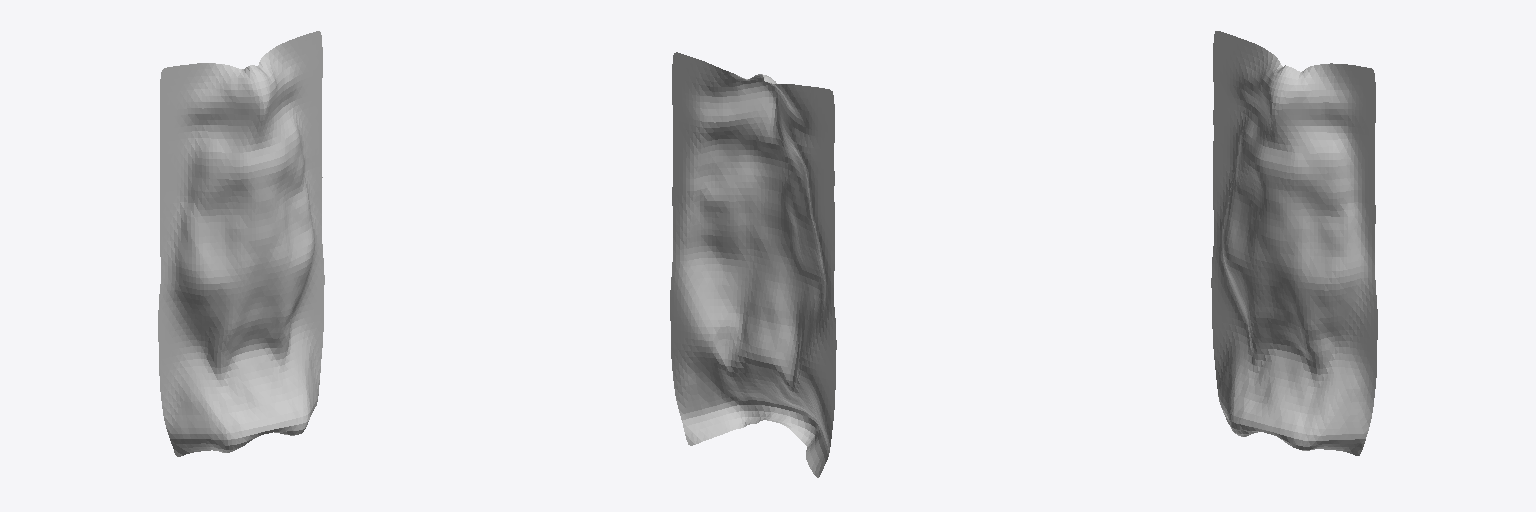
File: drap_corps.obj
The picture shows the model from 3 angles: view 1: azimuth 30°, elevation 25°; view 2: azimuth 150°, elevation 25°; view 3: azimuth 330°, elevation 25°; orthographic projection.
Visible parts, largest first — view 1: Plane; view 2: Plane; view 3: Plane.
Boxes of the visible parts, <box> form: Plane: <box>158,31,324,456</box>; Plane: <box>670,52,836,477</box>; Plane: <box>1211,31,1377,455</box>.
Bounding box in the file's own units: 10.19 × 22.95 × 3.11.